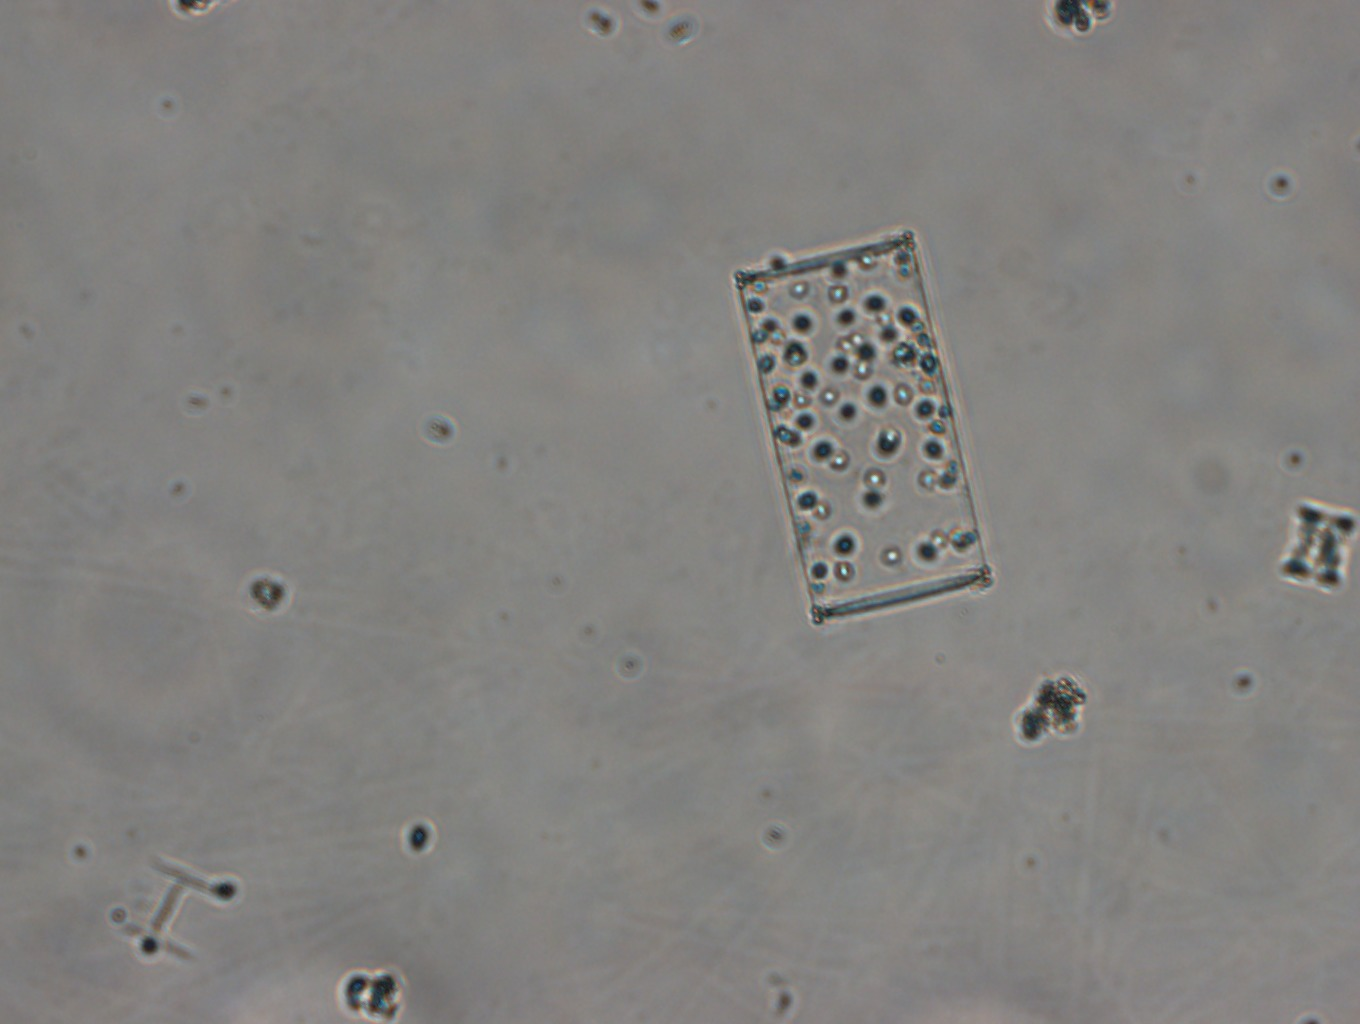guinardia flaccida: (735, 228, 992, 618)
